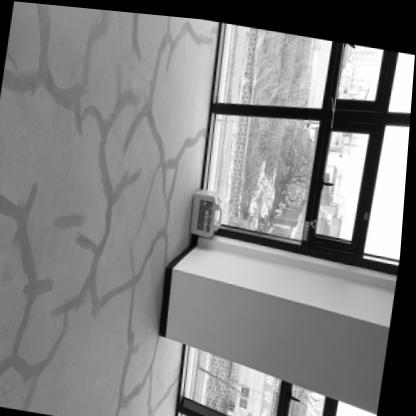DDL: (192, 184, 227, 232)
